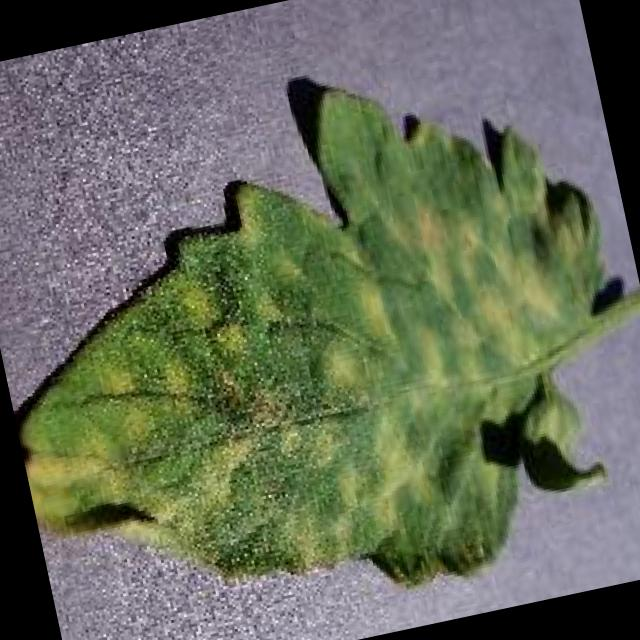leaf mold: (16, 83, 640, 590)
